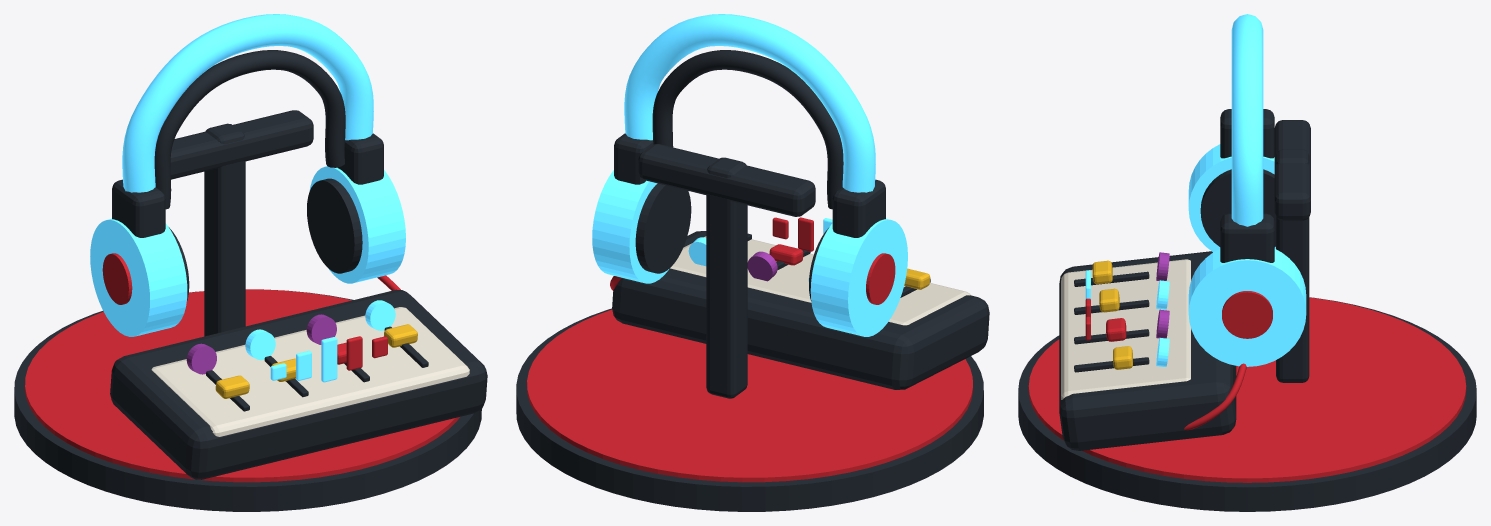
The model's file is study-lab-blockout.glb.
3 renders of one model, left to right at view 1: azimuth 30°, elevation 25°; view 2: azimuth 150°, elevation 25°; view 3: azimuth 270°, elevation 25°, orthographic. The views are drawn at different scales.
Visible parts, largest first — view 1: MIXER_BODY, DISPLAY_PLINTH_ACCENT, MIXER_FACE, DISPLAY_PLINTH, HEADBAND_OUTER, EAR_CUP_LEFT, STAND_POLE, HEADBAND_INNER, STAND_TOP, EAR_CUP_RIGHT, EAR_PAD_RIGHT, YOKE_LEFT (+10 smaller); view 2: DISPLAY_PLINTH_ACCENT, MIXER_BODY, DISPLAY_PLINTH, HEADBAND_OUTER, STAND_POLE, EAR_CUP_LEFT, STAND_TOP, HEADBAND_INNER, EAR_CUP_RIGHT, MIXER_FACE, EAR_PAD_RIGHT, YOKE_LEFT (+4 smaller); view 3: DISPLAY_PLINTH_ACCENT, DISPLAY_PLINTH, MIXER_BODY, MIXER_FACE, EAR_CUP_RIGHT, HEADBAND_OUTER, STAND_POLE, STAND_TOP, YOKE_RIGHT, EAR_PAD_LEFT, EAR_CUP_LEFT, EAR_ACCENT_RIGHT (+2 smaller).
Boxes of the visible parts, left/top/right/bottom form: MIXER_BODY: left=110, top=289, right=487, bottom=479; DISPLAY_PLINTH_ACCENT: left=25, top=289, right=459, bottom=482; MIXER_FACE: left=151, top=307, right=469, bottom=436; DISPLAY_PLINTH: left=14, top=289, right=481, bottom=511; HEADBAND_OUTER: left=122, top=14, right=373, bottom=192; EAR_CUP_LEFT: left=90, top=218, right=187, bottom=336; STAND_POLE: left=204, top=123, right=245, bottom=336; HEADBAND_INNER: left=154, top=50, right=345, bottom=209; STAND_TOP: left=170, top=110, right=313, bottom=179; EAR_CUP_RIGHT: left=309, top=166, right=405, bottom=283; EAR_PAD_RIGHT: left=307, top=178, right=362, bottom=273; YOKE_LEFT: left=112, top=179, right=165, bottom=237; DISPLAY_PLINTH_ACCENT: left=527, top=309, right=972, bottom=482; MIXER_BODY: left=612, top=231, right=989, bottom=389; DISPLAY_PLINTH: left=516, top=308, right=983, bottom=511; HEADBAND_OUTER: left=624, top=14, right=875, bottom=192; STAND_POLE: left=706, top=157, right=747, bottom=398; EAR_CUP_LEFT: left=810, top=218, right=907, bottom=336; STAND_TOP: left=638, top=144, right=815, bottom=216; HEADBAND_INNER: left=652, top=50, right=843, bottom=209; EAR_CUP_RIGHT: left=592, top=170, right=668, bottom=283; MIXER_FACE: left=670, top=236, right=970, bottom=325; EAR_PAD_RIGHT: left=635, top=183, right=691, bottom=273; YOKE_LEFT: left=832, top=179, right=885, bottom=237; DISPLAY_PLINTH_ACCENT: left=1028, top=297, right=1466, bottom=482; DISPLAY_PLINTH: left=1018, top=297, right=1476, bottom=511; MIXER_BODY: left=1059, top=251, right=1236, bottom=450; MIXER_FACE: left=1061, top=259, right=1190, bottom=399; EAR_CUP_RIGHT: left=1188, top=249, right=1306, bottom=366; HEADBAND_OUTER: left=1231, top=14, right=1263, bottom=226; STAND_POLE: left=1276, top=149, right=1309, bottom=382; STAND_TOP: left=1274, top=120, right=1310, bottom=220; YOKE_RIGHT: left=1220, top=213, right=1274, bottom=262; EAR_PAD_LEFT: left=1200, top=169, right=1275, bottom=246; EAR_CUP_LEFT: left=1188, top=144, right=1275, bottom=252; EAR_ACCENT_RIGHT: left=1222, top=291, right=1272, bottom=338.
Size of the model in its own units: 3.04 by 2.83 by 3.04.
